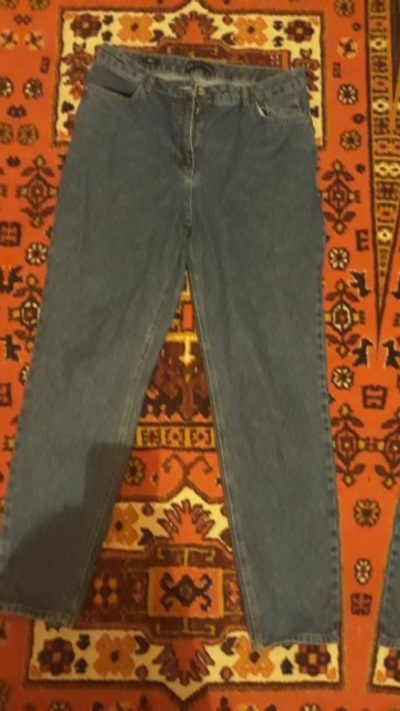Pants: (0, 32, 370, 679), (0, 9, 21, 657), (383, 58, 400, 705)
